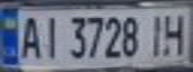2: (103, 12, 124, 60)
3: (63, 12, 87, 60)
7: (84, 12, 106, 60)
8: (121, 11, 145, 58)
A: (15, 12, 45, 60)
H: (160, 9, 190, 56)
I: (36, 12, 63, 60), (142, 10, 169, 57)
